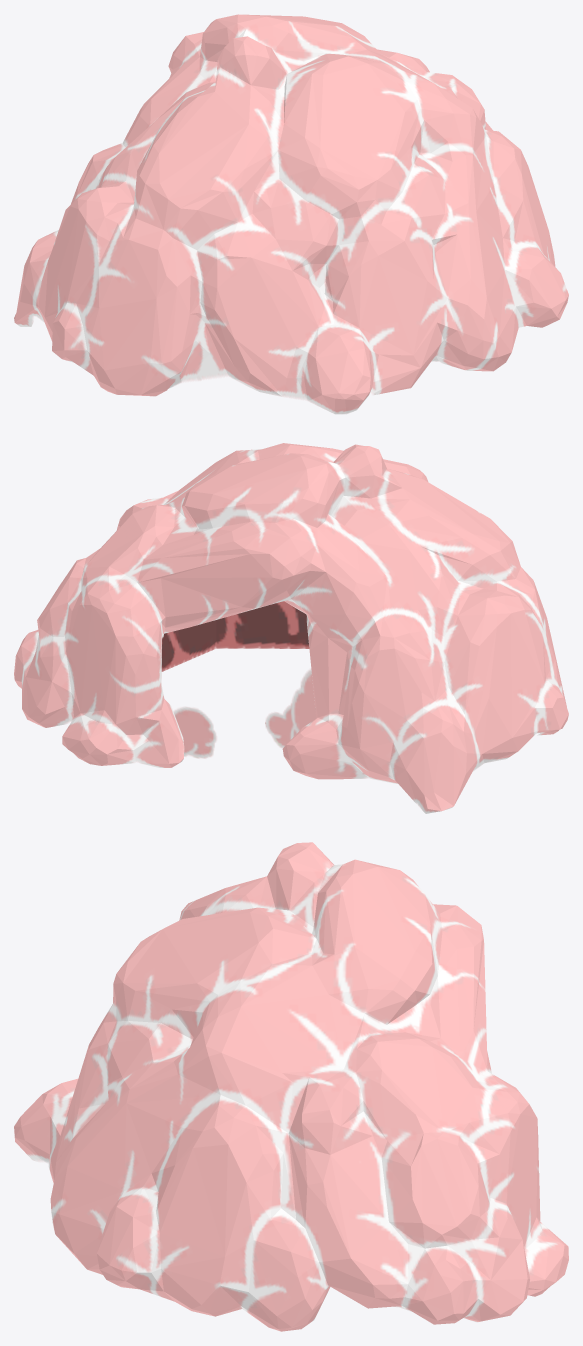
The model's file is ComfyCave.glb.
3 views of the same model, one above another, from view 1: azimuth 30°, elevation 25°; view 2: azimuth 150°, elevation 25°; view 3: azimuth 270°, elevation 25° (orthographic). The views are drawn at different scales.
Visible parts, largest first — view 1: CottonCave; view 2: CottonCave; view 3: CottonCave.
Boxes of the visible parts, x1,y1,x2,y2 form: CottonCave: (14,14,568,414); CottonCave: (14,443,568,813); CottonCave: (14,842,568,1331).
Size of the model in its own units: 0.2705 by 0.1622 by 0.2273.
Materials: 1 (1 with a texture image).
